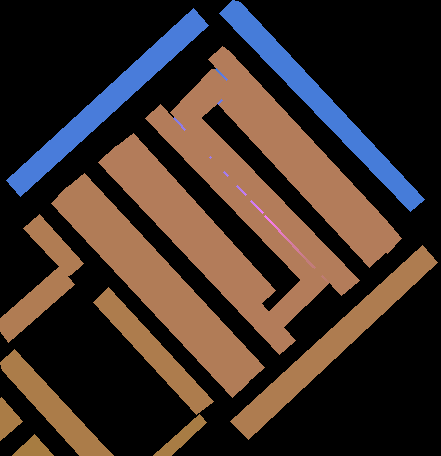parkingspot: (219, 0, 424, 211), (51, 187, 248, 397), (98, 146, 295, 354), (67, 173, 264, 381), (230, 245, 437, 439), (208, 46, 401, 253), (6, 8, 208, 196), (185, 118, 359, 295), (218, 88, 386, 267), (145, 104, 313, 280), (115, 133, 275, 303), (93, 287, 213, 414), (0, 349, 113, 456), (0, 266, 74, 342), (170, 69, 234, 130), (23, 214, 83, 275), (269, 267, 328, 326), (152, 414, 206, 456), (0, 397, 22, 440), (12, 434, 53, 456)
